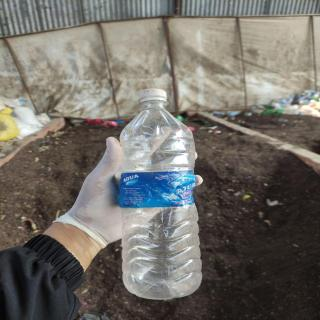Plastic-bottle: (111, 85, 210, 304)
